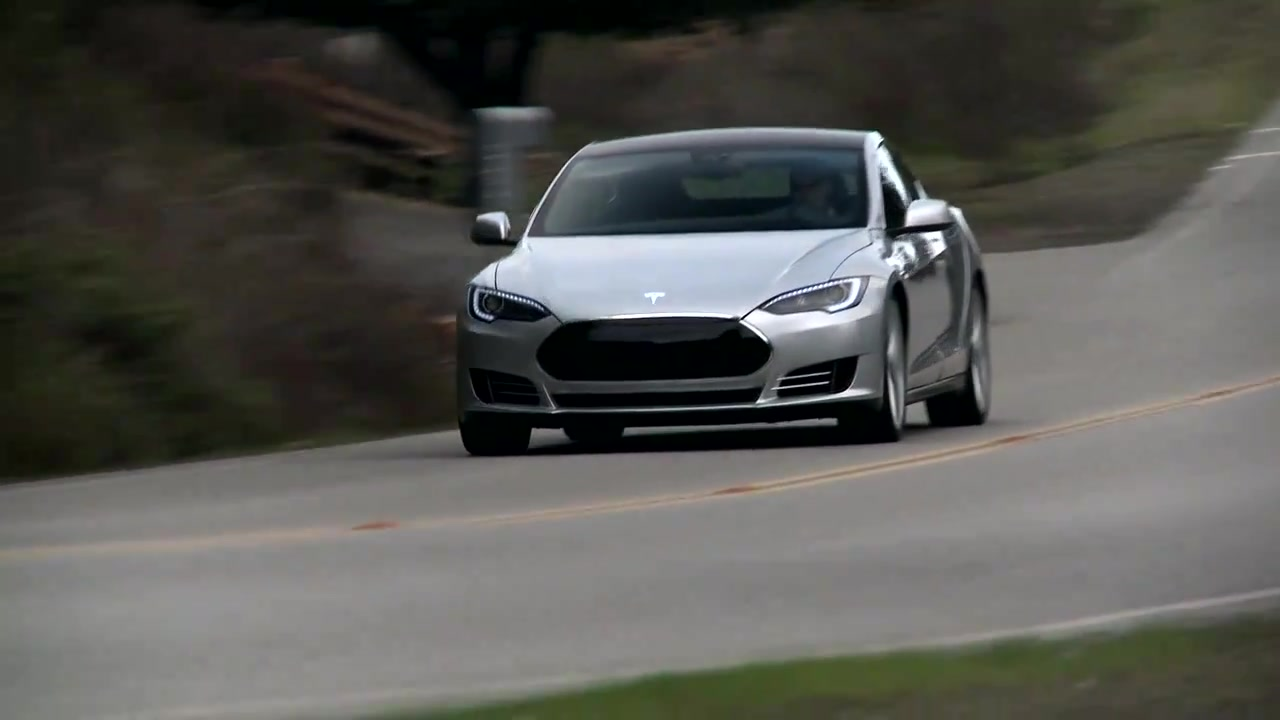car: (450, 127, 993, 450)
